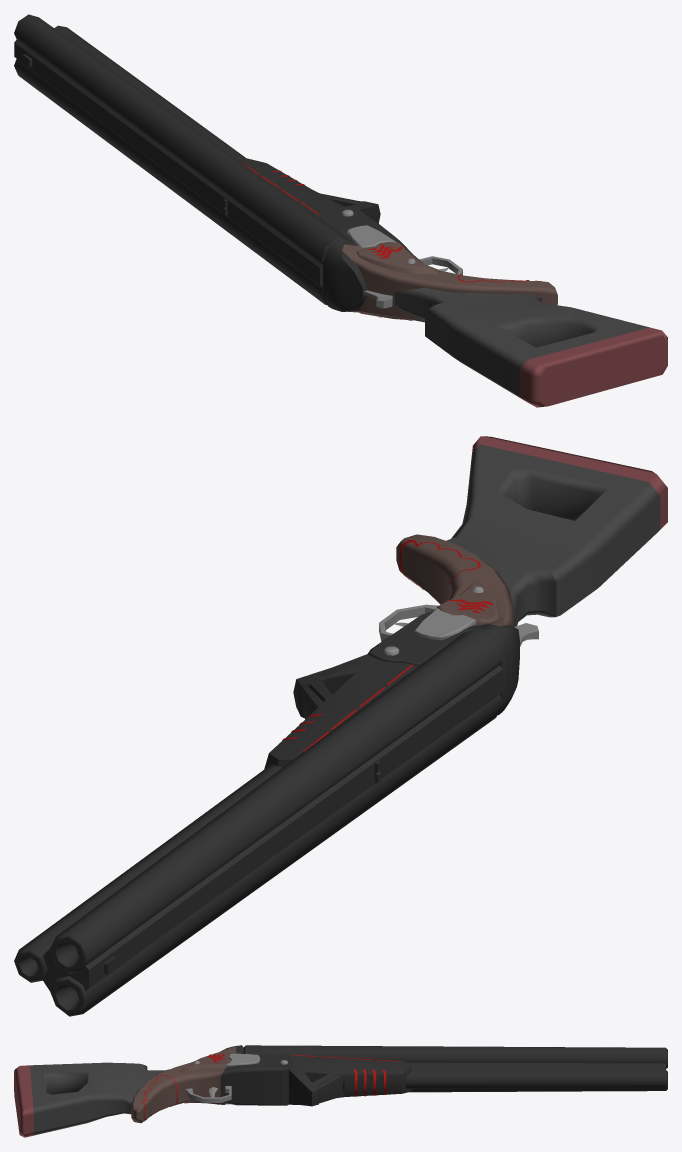
The model's file is juri.glb.
3 views of the same model, one above another, from view 1: azimuth 30°, elevation 25°; view 2: azimuth 150°, elevation 25°; view 3: azimuth 270°, elevation 25° (orthographic). The views are drawn at different scales.
Parts seen in each view (by area): view 1: Juri_Original_Weapon; view 2: Juri_Original_Weapon; view 3: Juri_Original_Weapon.
Part boxes in pixels (left/top/right/bottom): Juri_Original_Weapon: left=14, top=14, right=667, bottom=407; Juri_Original_Weapon: left=14, top=436, right=667, bottom=1016; Juri_Original_Weapon: left=14, top=1045, right=667, bottom=1137.
Size of the model in its own units: 0.1352 by 0.0482 by 0.6036.
Materials: 1 (1 with a texture image).
